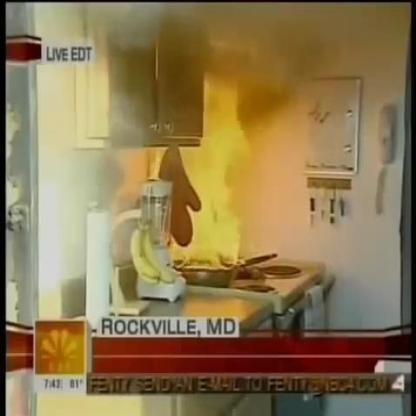fire: (160, 71, 248, 272)
